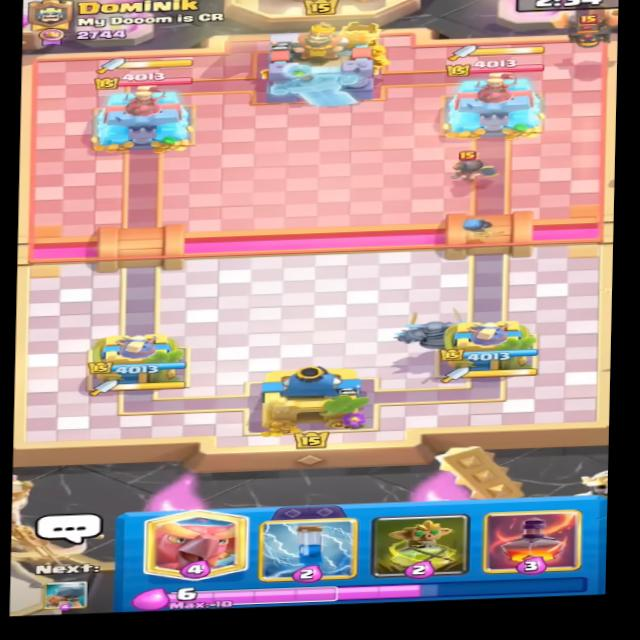lava-hound: (536, 4, 619, 54)
valkyrie: (443, 149, 504, 183)
